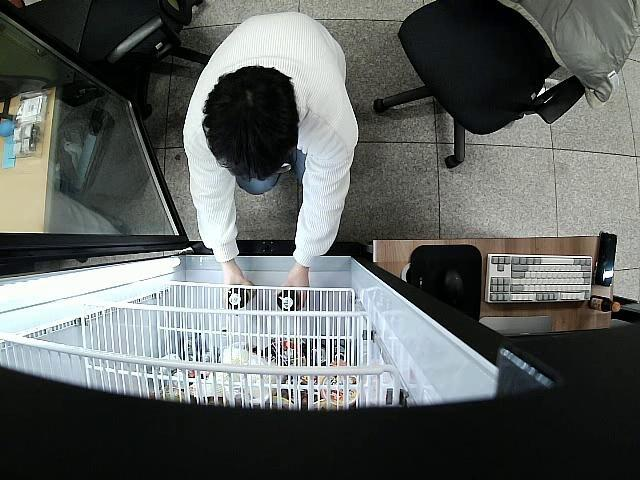19_17cha: (278, 288, 300, 313), (226, 284, 250, 306)
